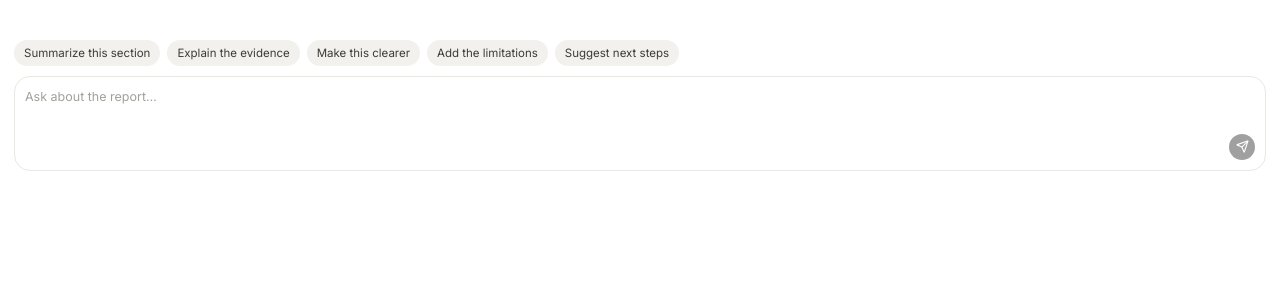
ReportChat › sin backend configurado lo dice, no finge una respuesta
Type "Resume" into the text box named "Instruction for the editor" at (640, 107), box [25, 87, 1255, 128]
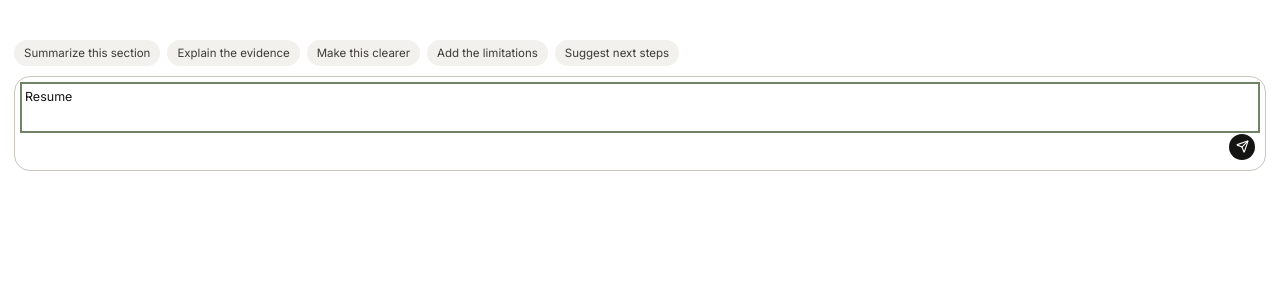
Click the button named "Send" at (1242, 147), box [1229, 134, 1255, 160]
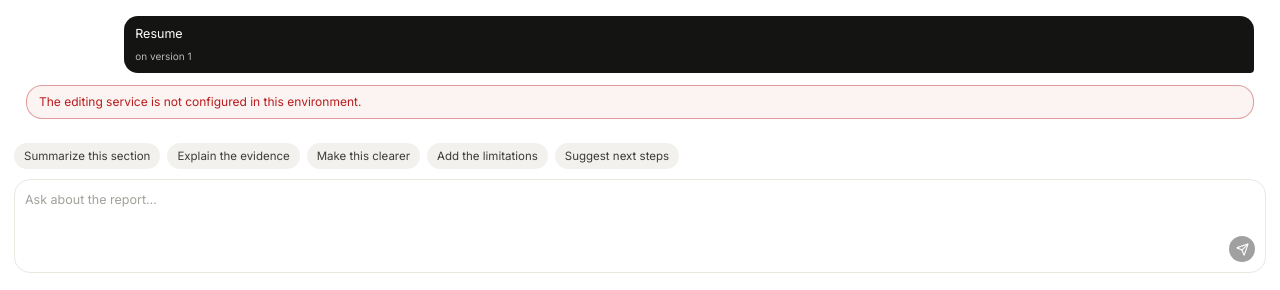
Expected: the text "The editing service is not configured in this environment." is shown, [26, 85, 1254, 119]
